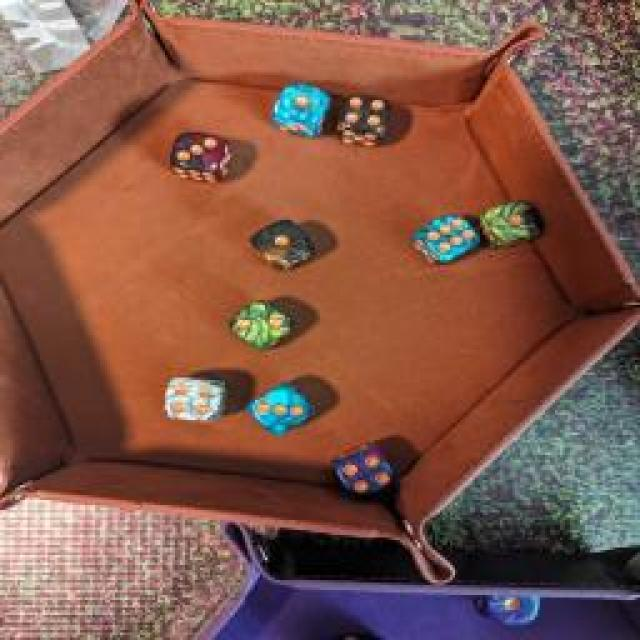dice_1: (264, 79, 334, 139), (478, 198, 544, 252), (476, 582, 544, 626)
dice_2: (224, 294, 298, 354), (245, 216, 317, 272)
dice_3: (162, 126, 242, 184), (246, 379, 316, 439)
dice_4: (159, 370, 231, 425), (334, 91, 394, 154), (330, 441, 395, 494)
dice_6: (409, 213, 479, 265)
